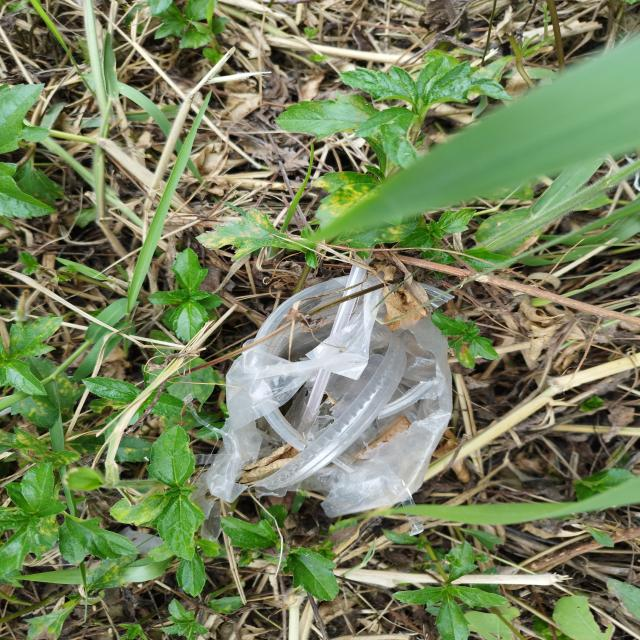drinking straw: (299, 264, 366, 430)
trash bag: (202, 278, 458, 518)
